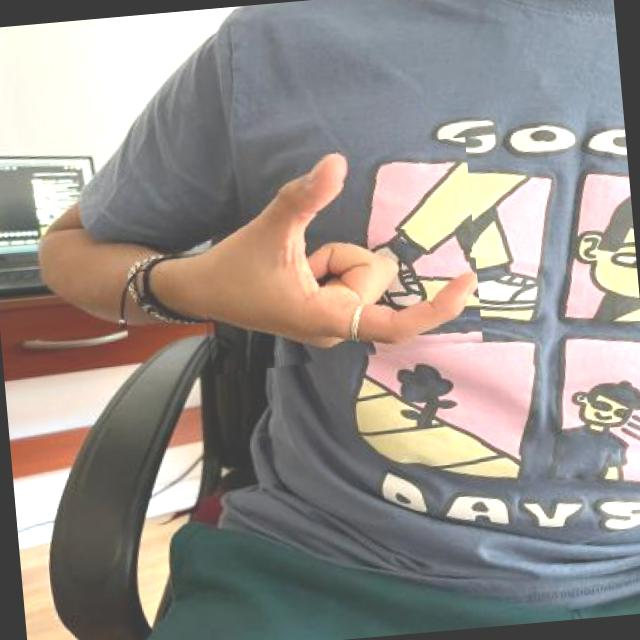G: (186, 137, 484, 375)
